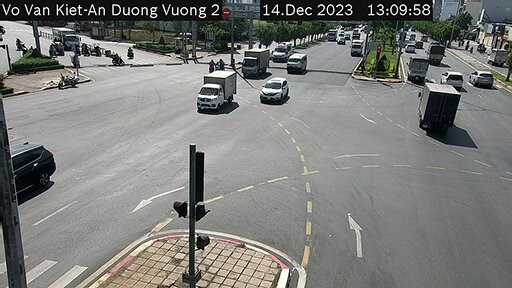car: (10, 132, 58, 200), (258, 78, 290, 103), (467, 66, 495, 86), (286, 50, 308, 74), (271, 41, 290, 60), (443, 68, 458, 90)
truck: (409, 83, 464, 132), (199, 70, 239, 115), (242, 48, 273, 77), (410, 54, 432, 82), (426, 40, 444, 67)
